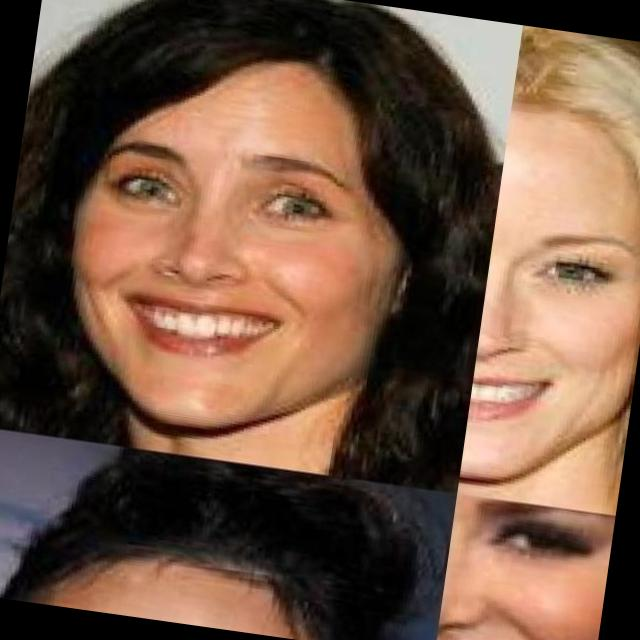bareface: (24, 28, 454, 460)
